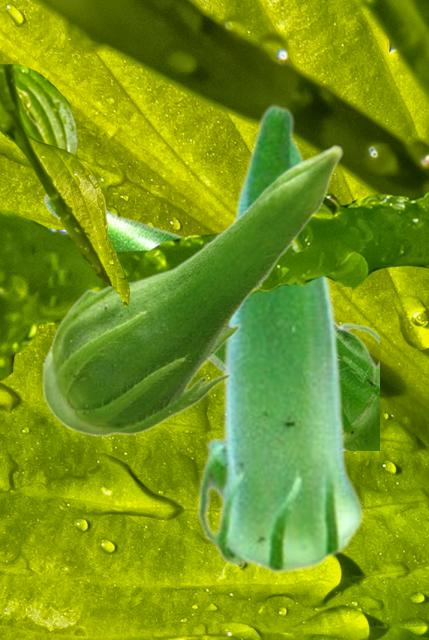okra: (41, 144, 343, 436), (42, 191, 378, 449), (196, 103, 364, 574)
